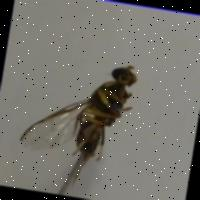Oriental-fruit-fly: (10, 31, 162, 186)
